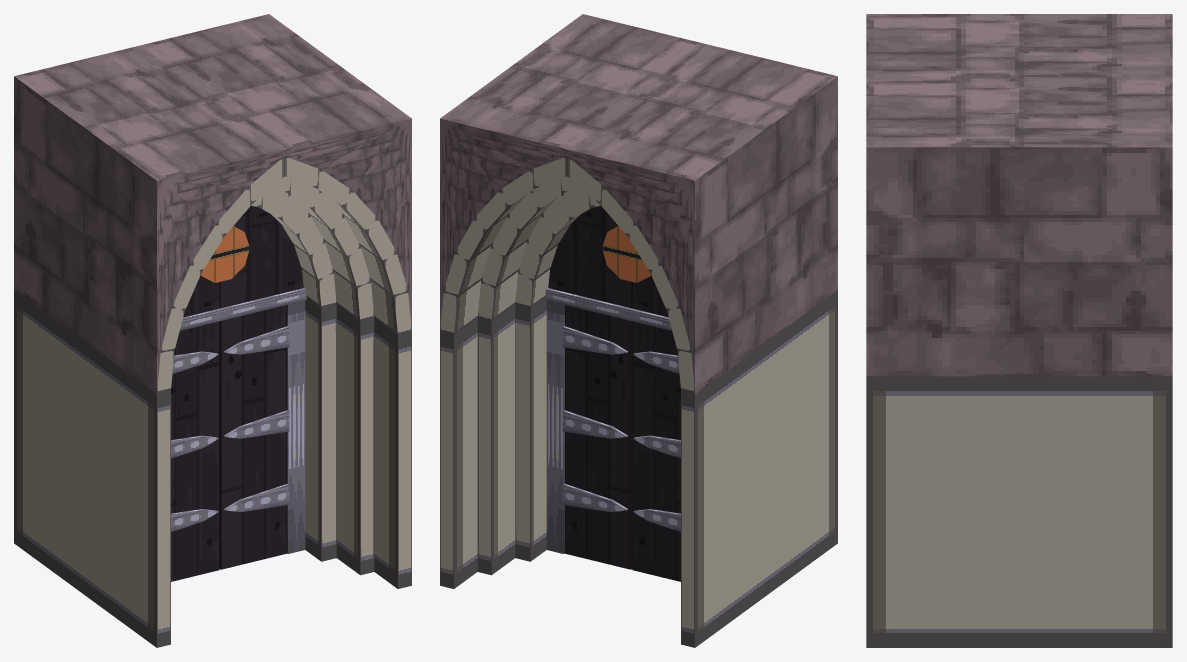
The model's file is door_boss.glb.
3 renders of one model, left to right at view 1: azimuth 30°, elevation 25°; view 2: azimuth 150°, elevation 25°; view 3: azimuth 270°, elevation 25°, orthographic. The views are drawn at different scales.
Visible parts, largest first — view 1: portal, leaf_a, leaf_b; view 2: portal, leaf_a, leaf_b; view 3: portal.
Boxes of the visible parts, <box> form: portal: <box>14,14,411,647</box>; leaf_a: <box>219,305,289,569</box>; leaf_b: <box>171,321,219,581</box>; portal: <box>440,14,837,647</box>; leaf_a: <box>562,305,632,569</box>; leaf_b: <box>632,321,680,581</box>; portal: <box>866,14,1172,647</box>.
Size of the model in its own units: 2 by 3.5 by 1.94.
Materials: 1 (1 with a texture image).
